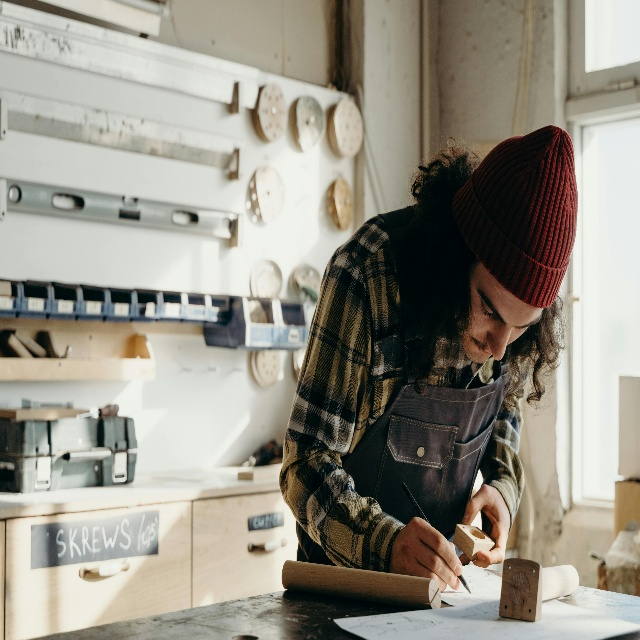Sin_guantes: (392, 518, 461, 597), (458, 487, 512, 568)
